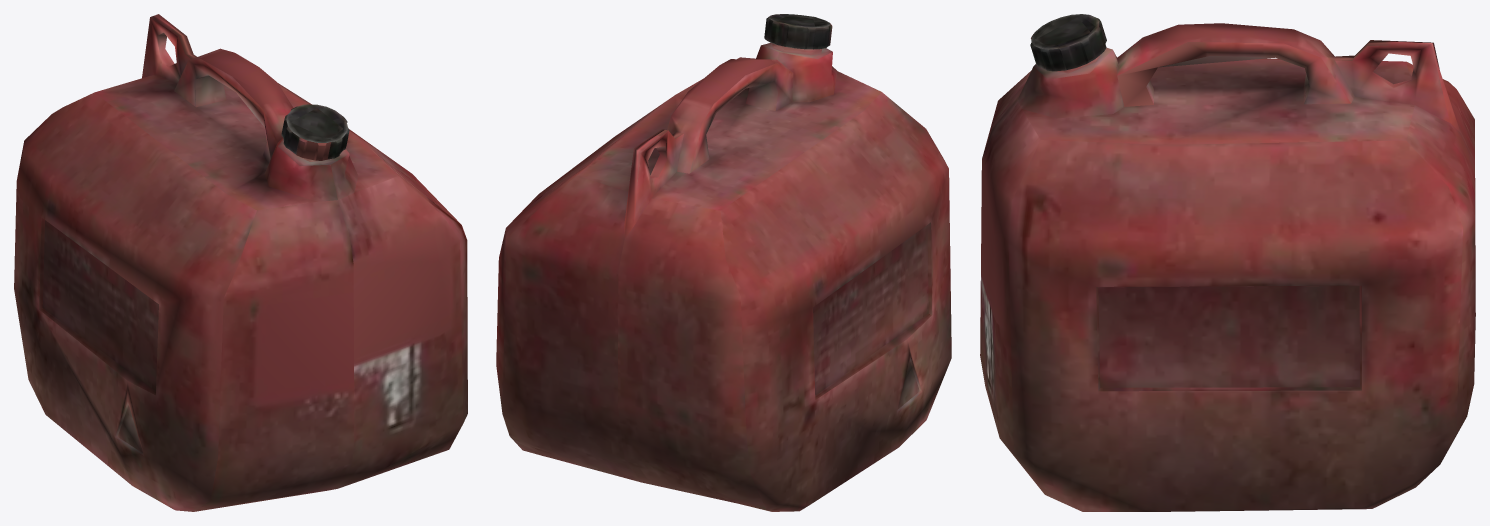
Rendered from plastic_jerrycan.glb.
3 views of the same model, side by side, from view 1: azimuth 30°, elevation 25°; view 2: azimuth 150°, elevation 25°; view 3: azimuth 270°, elevation 25° (orthographic). The views are drawn at different scales.
Visible parts, largest first — view 1: plastic_jerrycan; view 2: plastic_jerrycan; view 3: plastic_jerrycan.
Part boxes in pixels (<box>): plastic_jerrycan: <box>14,14,467,511</box>; plastic_jerrycan: <box>496,14,951,511</box>; plastic_jerrycan: <box>980,14,1475,511</box>.
Size of the model in its own units: 0.2654 by 0.318 by 0.3404.
1 material, 1 textured.
